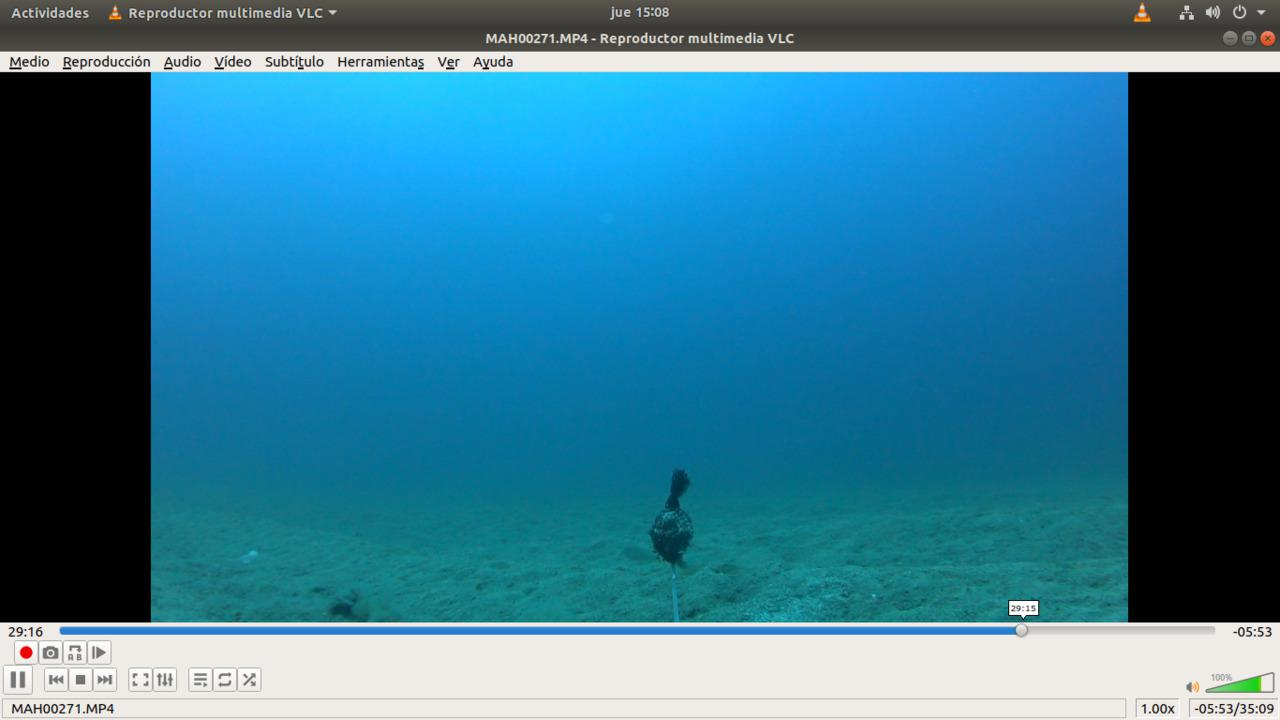raor: (610, 538, 667, 574)
